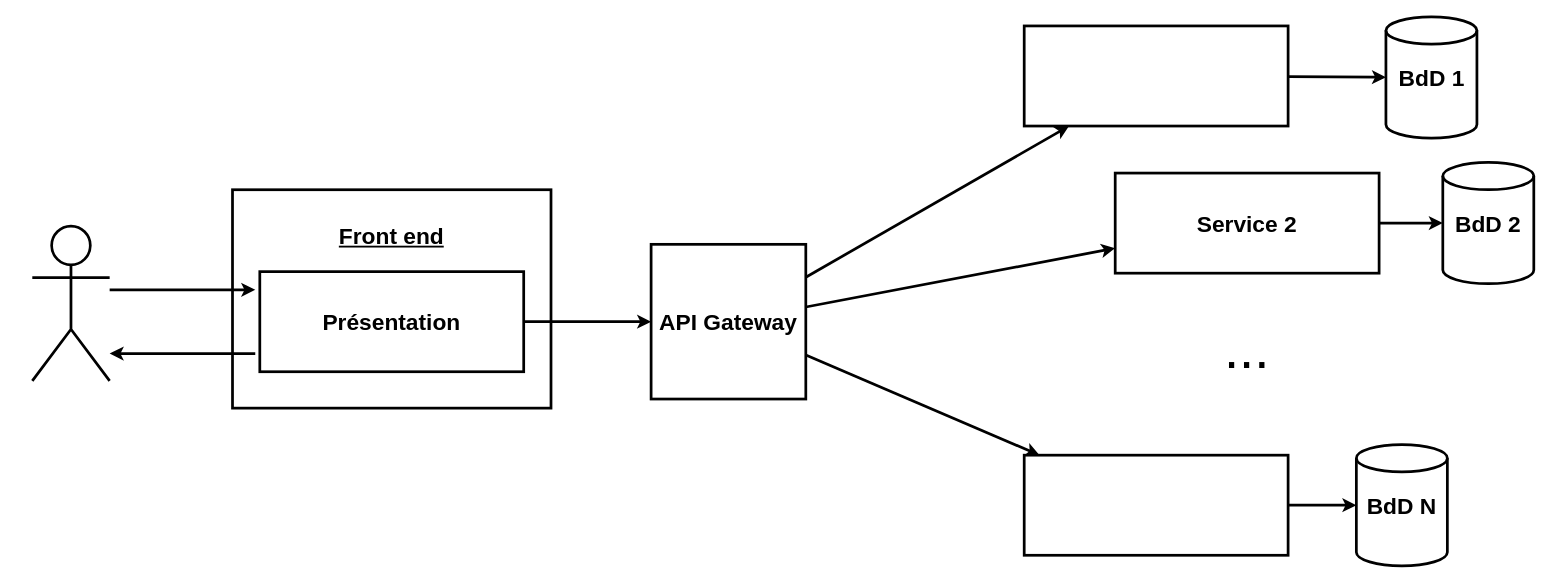
This 1551x583 diagram has some shape labels left out. Here are the shapes that lost their labels. From the top down, the centre of each, then its label:
At point 1155,75: "Service 1".
At point 70,303: "Utilisateur".
At point 1155,504: "Service N".
